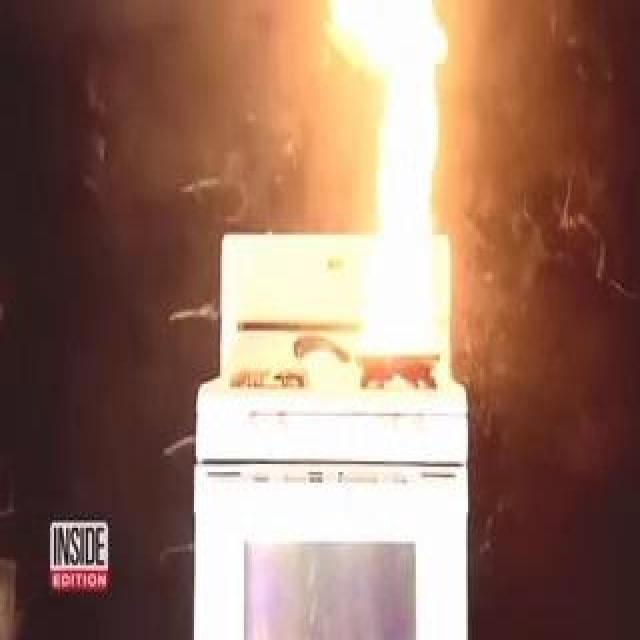Fire: (359, 2, 467, 362)
